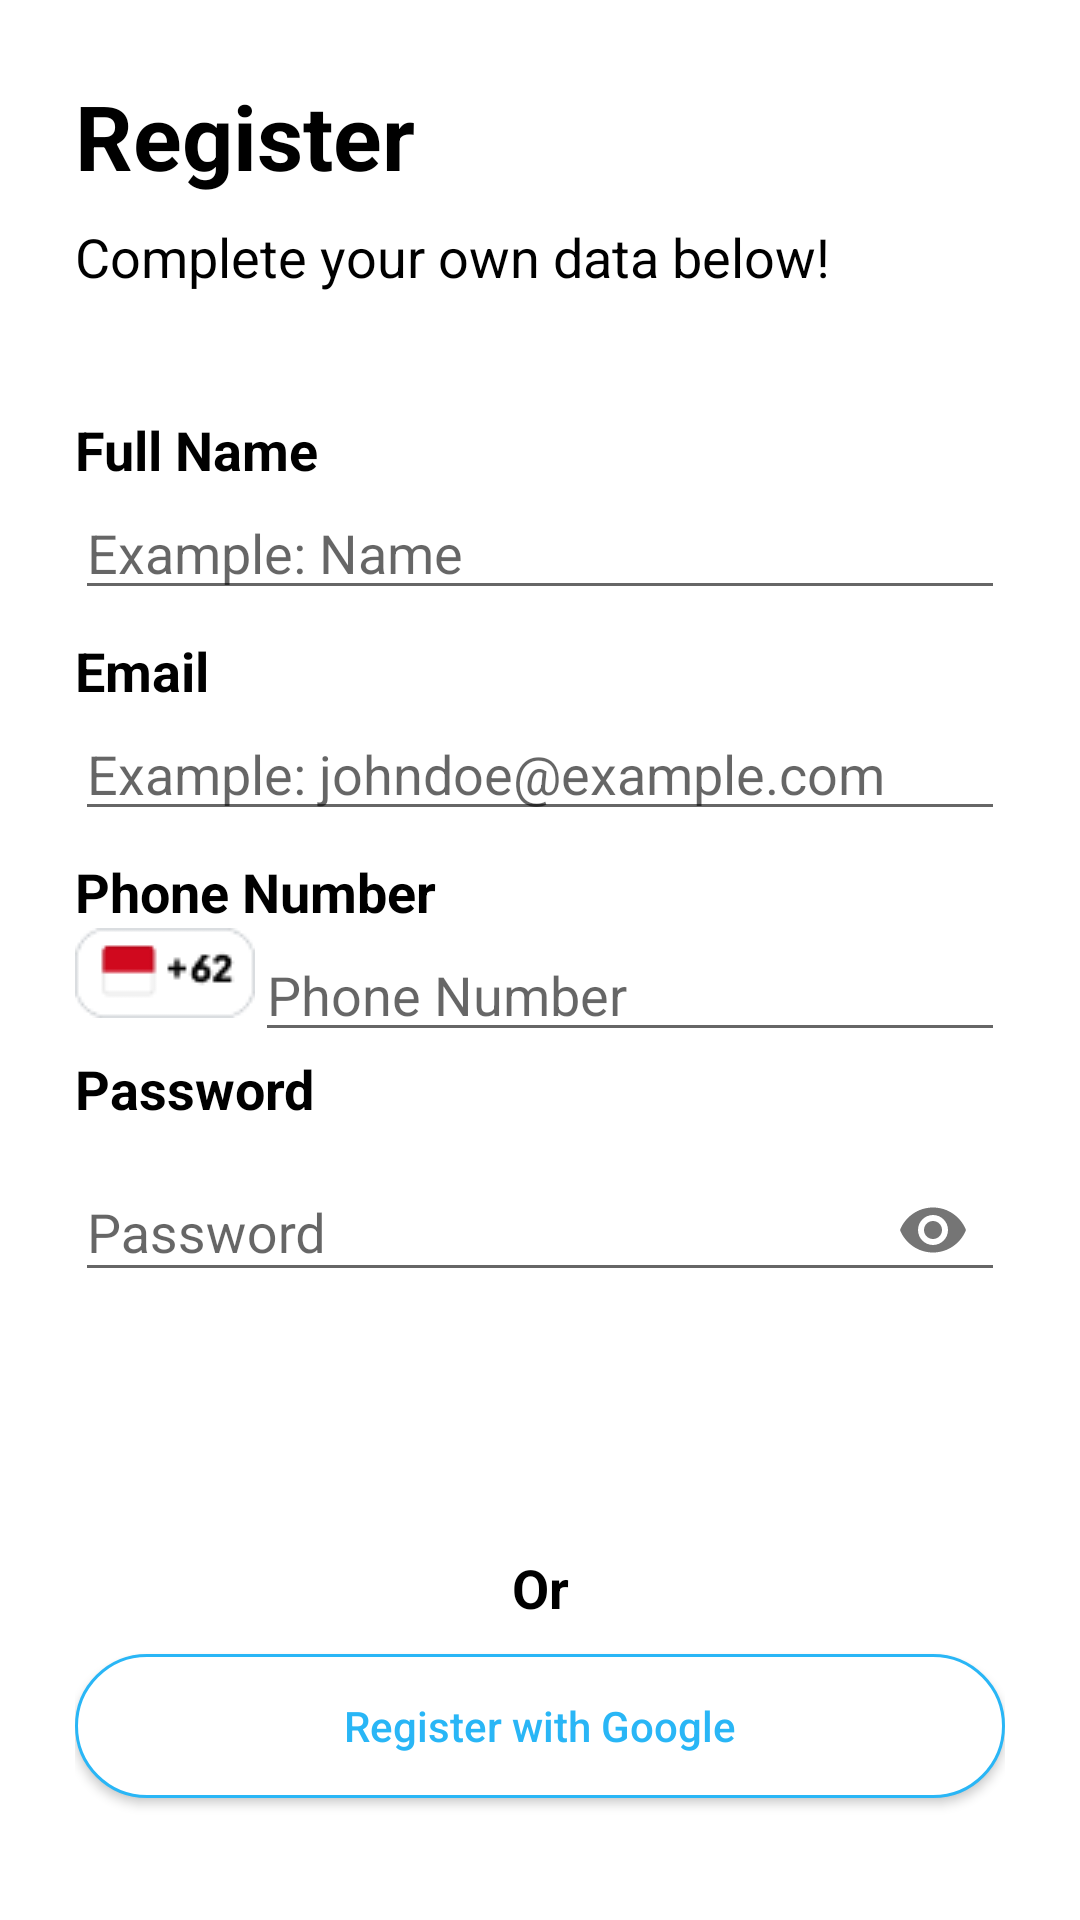

Point at icon controls on the screen. Image size 1080px×1920px, points as [x,y].
phone code: [165,973]
